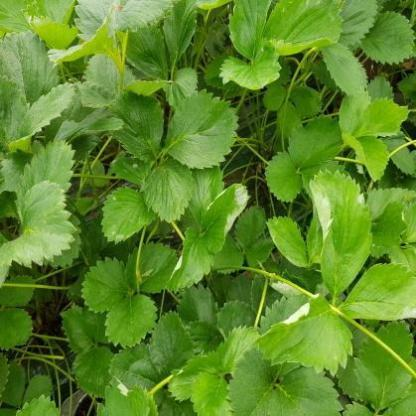Strawberry_Powdery_Mildew_Leaf: (253, 292, 355, 378), (309, 167, 374, 300), (339, 262, 415, 320), (200, 182, 254, 252), (165, 226, 216, 295), (96, 376, 151, 415), (268, 268, 313, 298)
